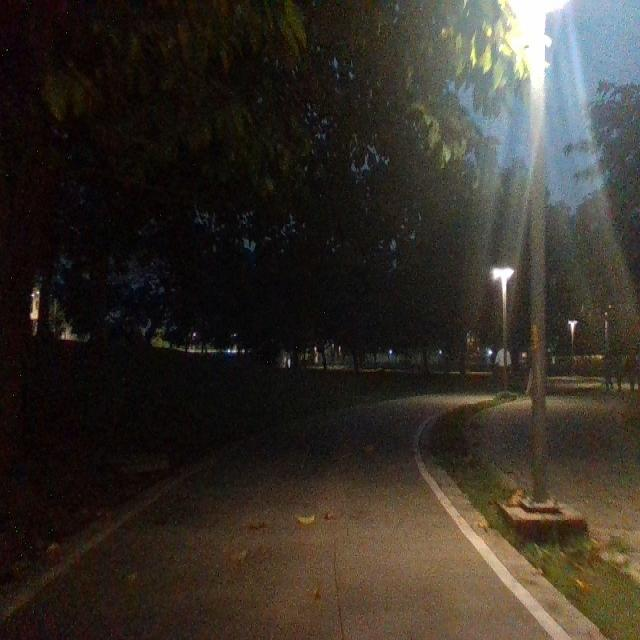lane: (1, 395, 555, 640)
